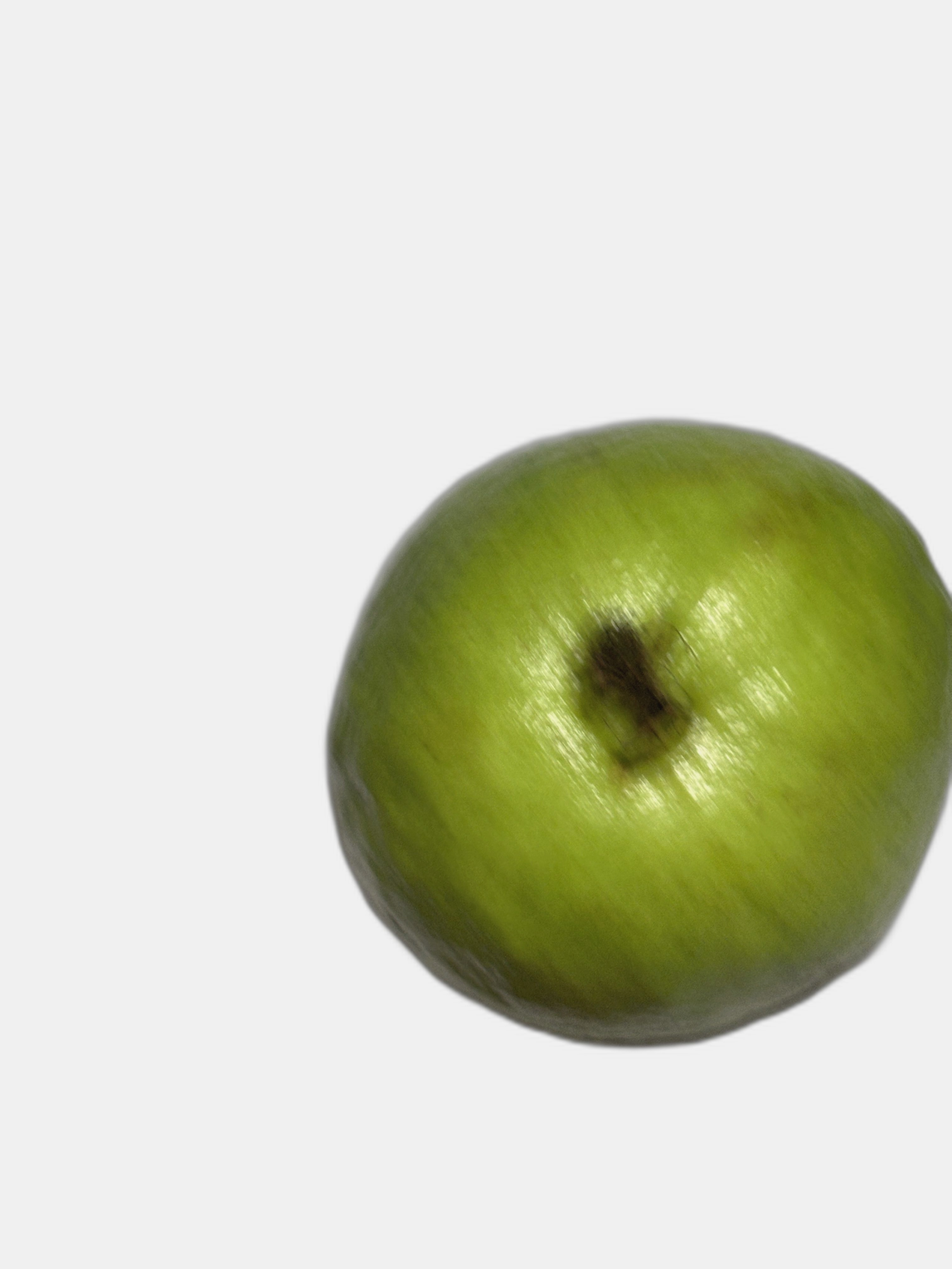guava: (150, 106, 940, 1148)
